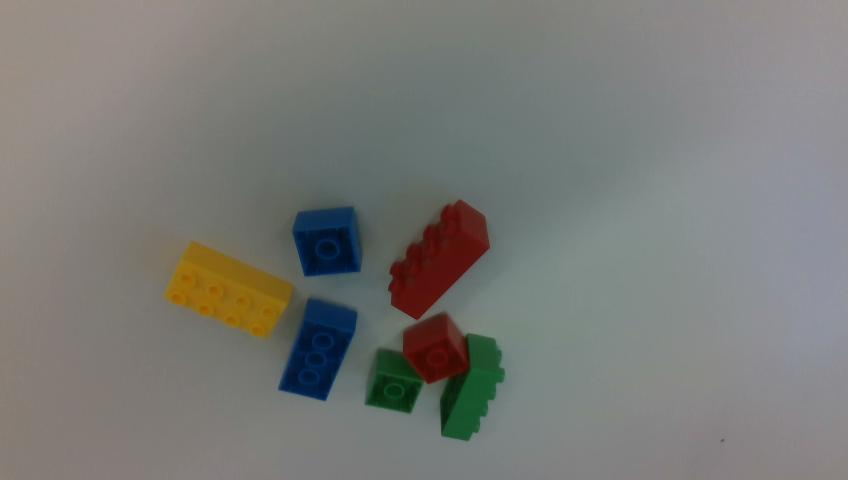2x2_blue: (293, 205, 364, 276)
2x2_green: (366, 348, 424, 413)
2x2_red: (403, 314, 469, 383)
4x2_blue: (280, 299, 355, 399)
4x2_green: (441, 334, 504, 440)
4x2_red: (388, 200, 487, 318)
4x2_yellow: (164, 242, 292, 337)
